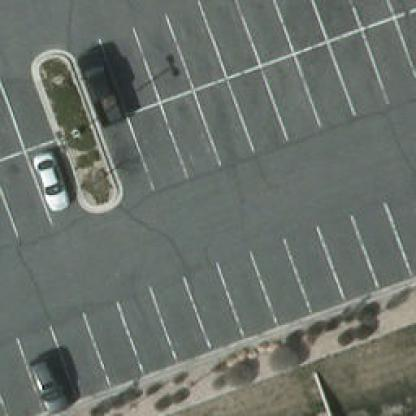car: (24, 356, 76, 413), (26, 151, 68, 213)
